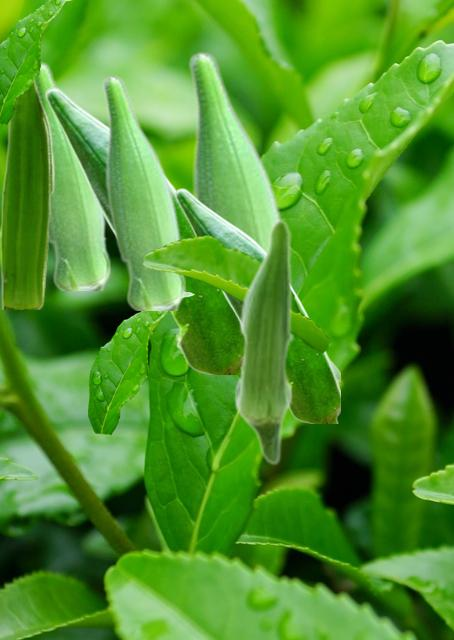okra: (44, 87, 242, 373), (174, 188, 339, 422), (101, 75, 184, 309), (187, 51, 284, 249), (37, 61, 109, 289), (233, 218, 293, 465), (0, 79, 54, 308)
